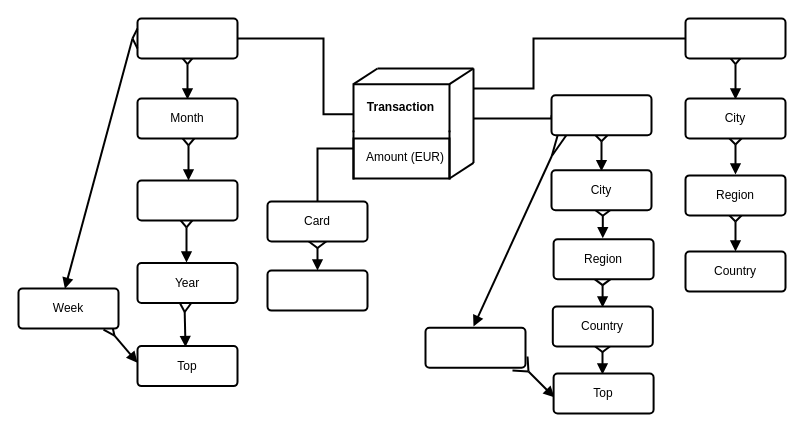
The diagram is 803 pixels wide and 431 high, and some of its shapes have lost their labels. Each missing label, with the box of its shape:
Category: (424, 326, 526, 368)
Customer: (684, 17, 786, 59)
Day: (136, 17, 238, 59)
Merchant: (550, 94, 652, 136)
Quarter: (136, 179, 238, 221)
Type: (266, 269, 368, 311)
